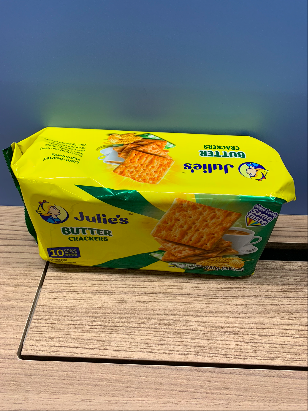Crackers_200-299g: (38, 142, 259, 270)
